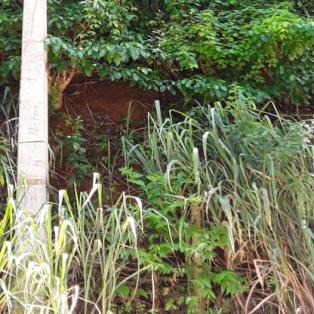Poste: (7, 0, 51, 291)
